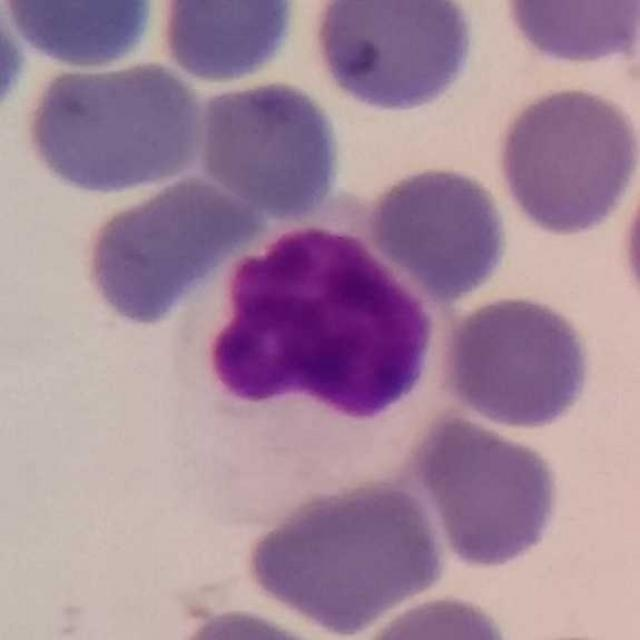Lymphocyte: (163, 204, 465, 526)
RBC: (242, 475, 449, 637), (76, 170, 268, 333), (18, 55, 210, 199), (408, 410, 566, 573), (492, 82, 640, 240), (435, 290, 598, 433), (194, 74, 345, 224), (363, 160, 512, 302), (305, 0, 481, 119), (152, 0, 305, 87), (0, 0, 162, 73), (497, 0, 640, 69), (352, 591, 518, 640), (162, 603, 356, 640), (616, 143, 640, 323), (0, 1, 32, 128)
